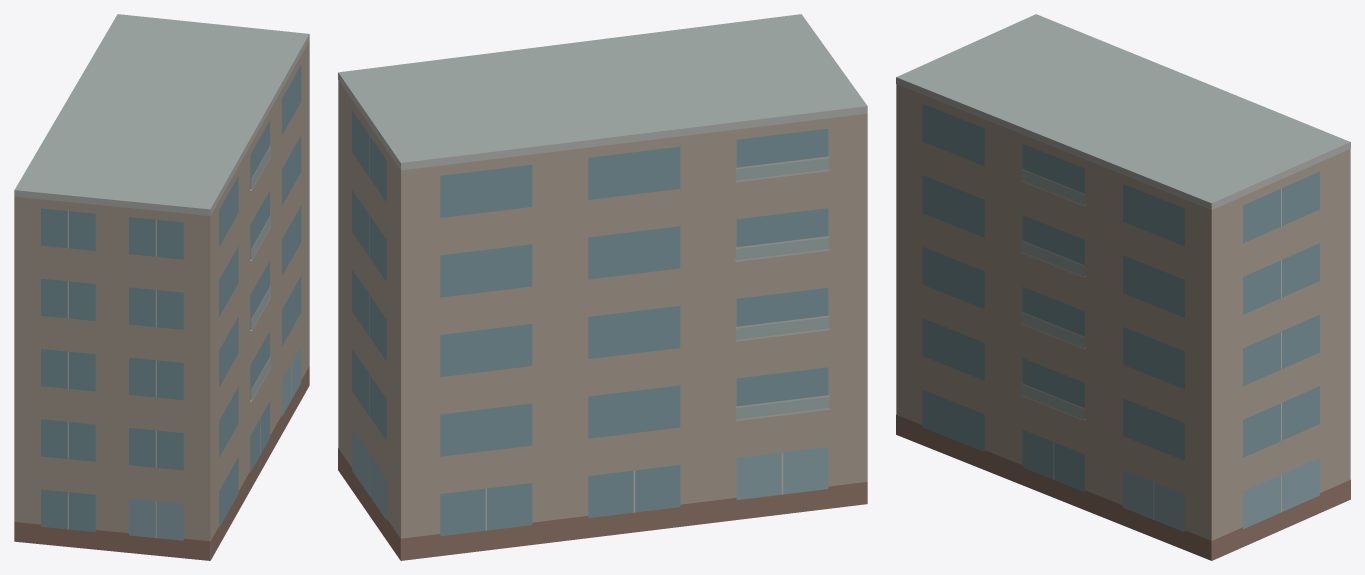
File: survey-upis-32882892.glb
The picture shows the model from 3 angles, left to right: view 1: azimuth 30°, elevation 25°; view 2: azimuth 150°, elevation 25°; view 3: azimuth 270°, elevation 25°; orthographic projection. The views are drawn at different scales.
Parts seen in each view (by area): view 1: survey-upis-32882892.tmp; view 2: survey-upis-32882892.tmp; view 3: survey-upis-32882892.tmp.
Part boxes in pixels (x1=…): survey-upis-32882892.tmp: x1=14, y1=14, x2=309, y2=560; survey-upis-32882892.tmp: x1=338, y1=14, x2=867, y2=560; survey-upis-32882892.tmp: x1=896, y1=14, x2=1350, y2=560.
Bounding box in the file's own units: 14.89 × 13.1 × 15.1.
